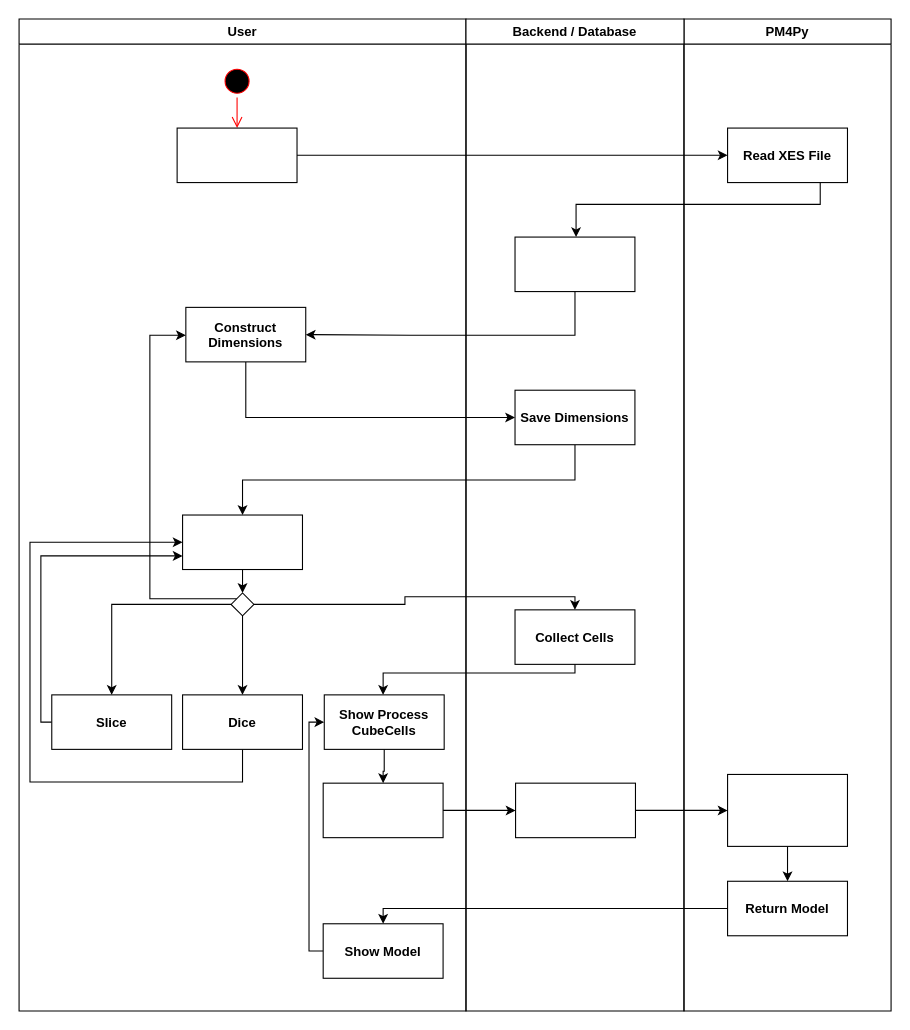
Some shapes in this 910 by 1030 pixel diagram are drawn without their labels. The centre of each missing label's shape, as x and y in pixels:
Collect Events of Selected Cell: [574,810]
Import Data: [574,264]
Process Cube Overview: [241,542]
Run Process Minining Algorithm: [786,809]
Select Cell: [382,810]
Upload EventLog: [236,155]
